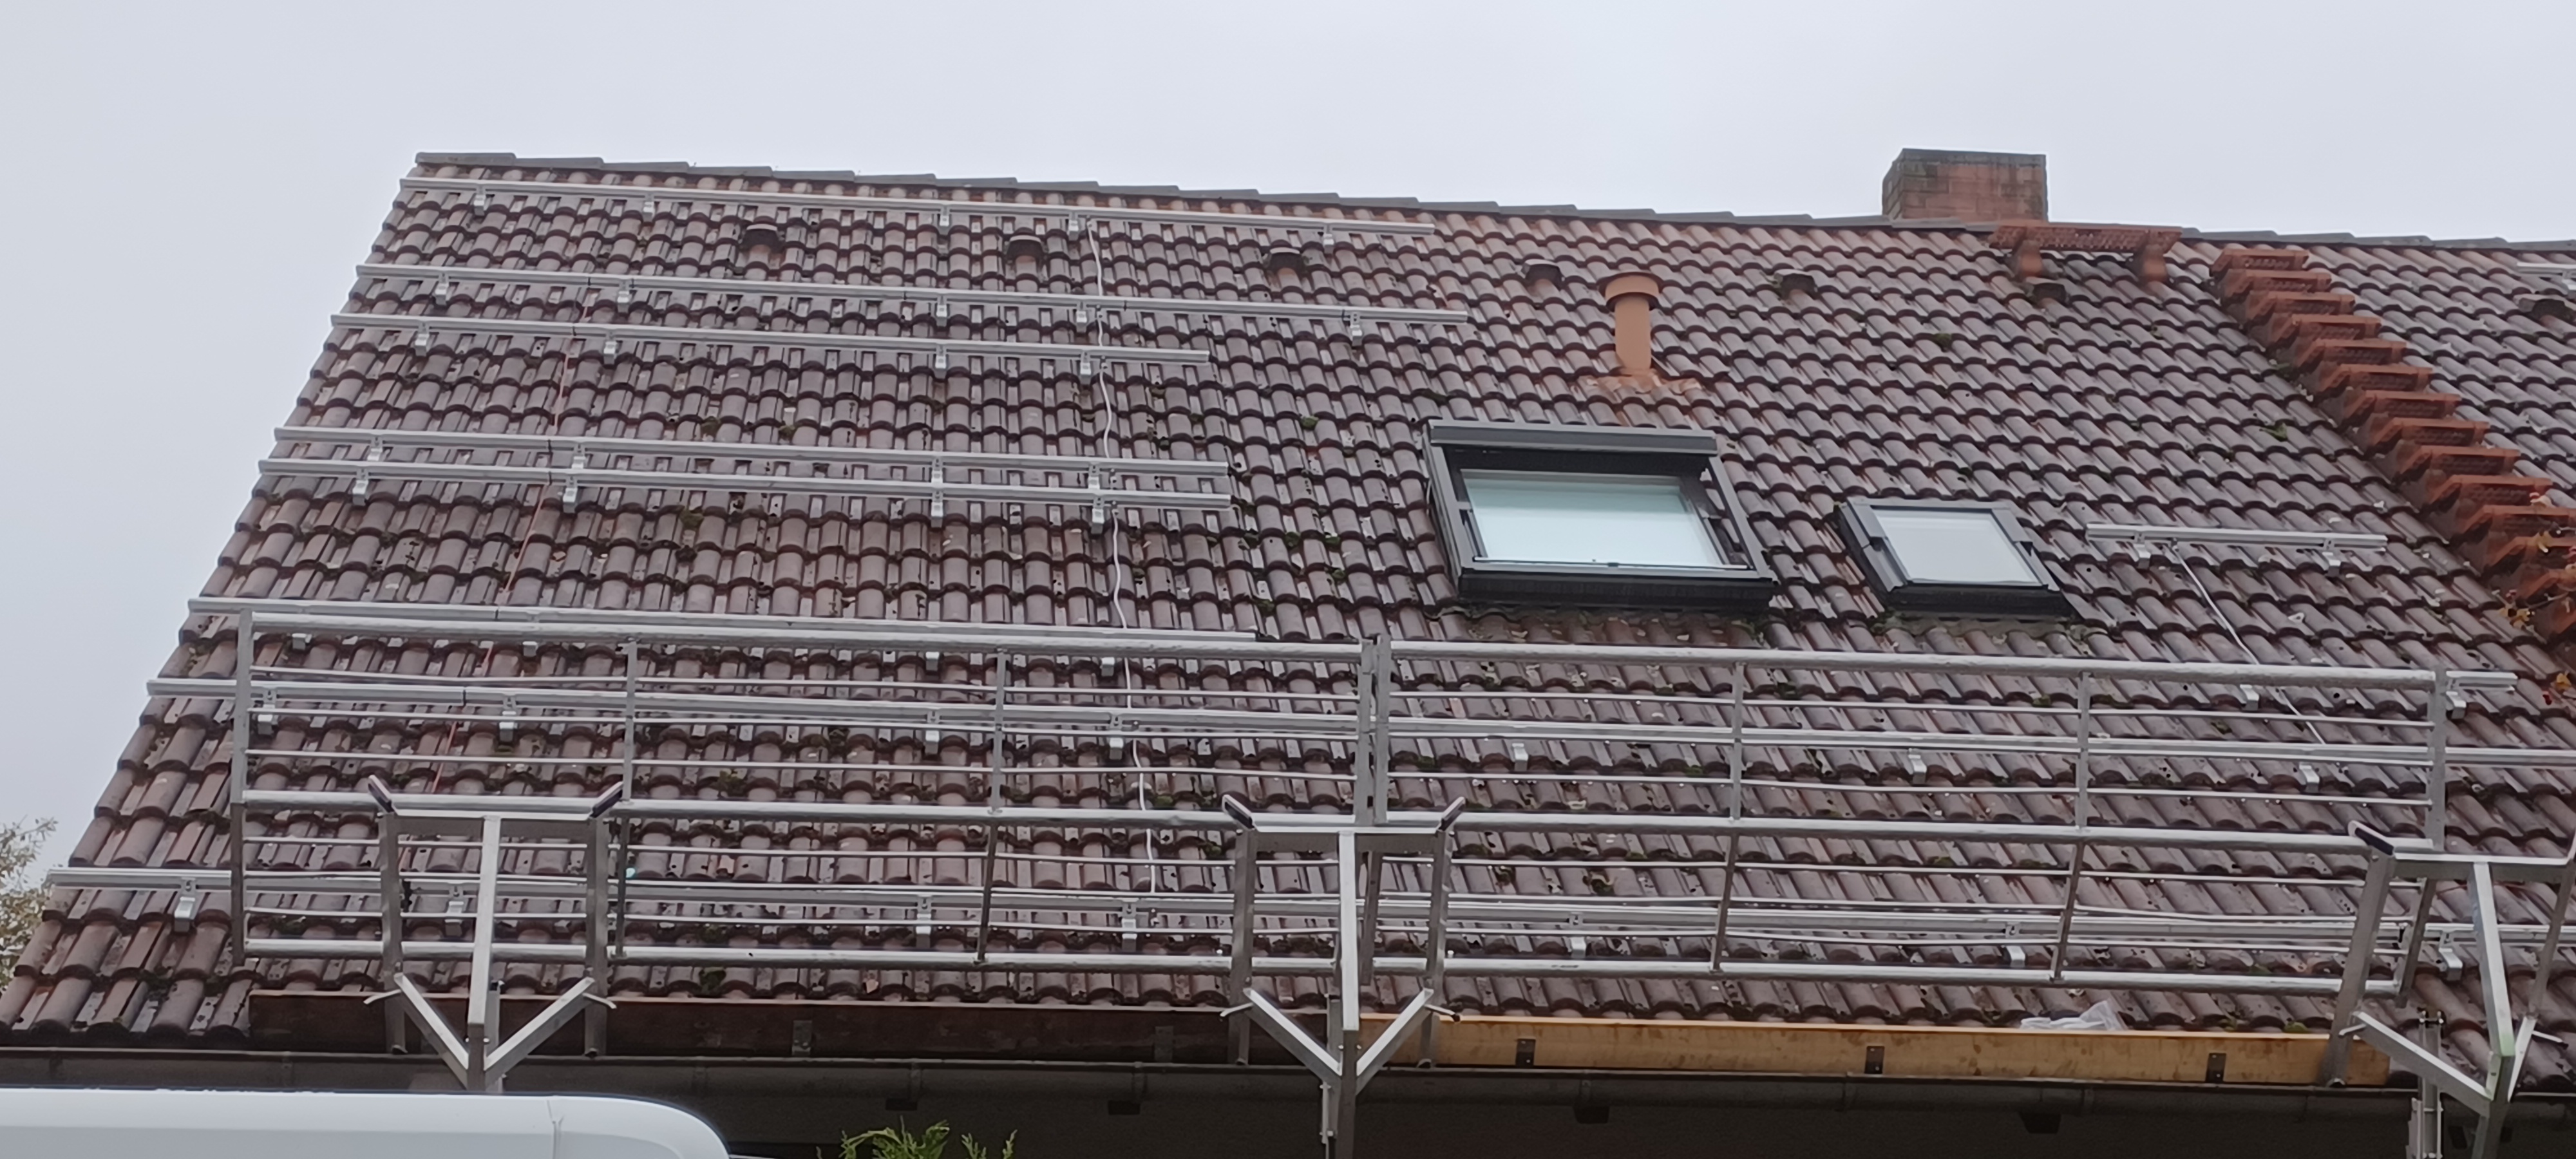hook: (2436, 929, 2461, 982), (174, 877, 195, 934), (444, 883, 465, 937), (258, 688, 279, 735), (498, 693, 516, 744), (1120, 898, 1137, 954), (2129, 529, 2150, 571), (915, 895, 931, 949), (2006, 921, 2024, 969), (1907, 737, 1925, 785), (2446, 678, 2466, 721), (2321, 537, 2341, 578), (2295, 762, 2320, 795), (352, 466, 371, 506), (1569, 911, 1585, 957), (1109, 712, 1124, 762), (434, 271, 453, 307), (414, 320, 434, 356), (925, 711, 940, 757), (2238, 685, 2259, 712), (603, 327, 618, 366), (563, 474, 578, 514), (473, 182, 490, 217), (1091, 496, 1104, 535), (1349, 310, 1362, 348), (1511, 744, 1528, 773), (366, 433, 383, 461), (931, 489, 943, 529), (1079, 348, 1091, 386), (618, 277, 629, 314), (935, 343, 946, 379), (2561, 268, 2574, 299), (570, 442, 585, 468), (642, 190, 654, 223), (1066, 208, 1078, 241), (1322, 222, 1334, 254), (936, 294, 948, 327), (1088, 461, 1101, 489), (930, 456, 943, 484), (292, 634, 312, 652), (1076, 299, 1086, 333), (940, 204, 950, 236), (925, 652, 938, 673), (1101, 657, 1114, 676), (522, 640, 537, 657)
